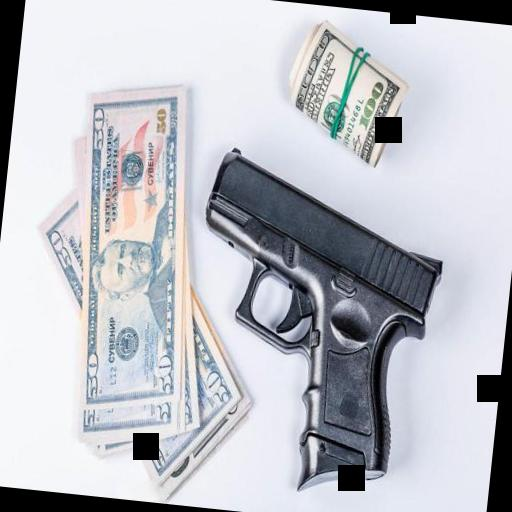Handgun: (173, 136, 455, 508)
